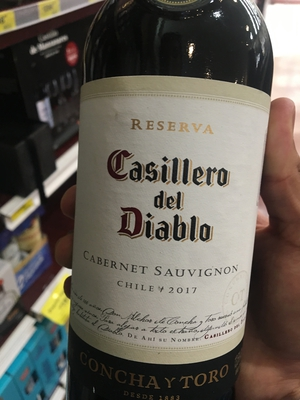casillero del diablo cabernet sauvignon: (78, 12, 276, 400)
